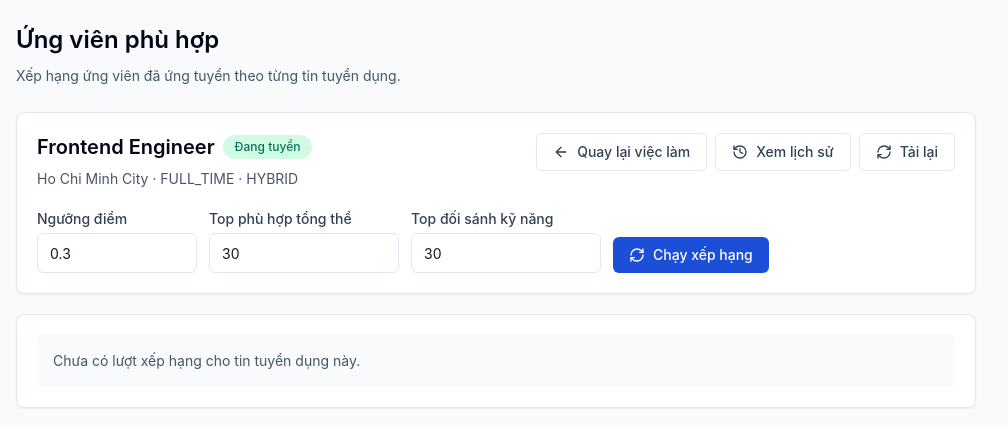
create run and processing behavior › sanitizes failed create errors
Expected: the text "Chưa có lượt xếp hạng cho tin tuyển dụng này." is shown, [37,335,955,387]
Click the button "Chạy xếp hạng" at (691, 255), box [613,237,769,273]
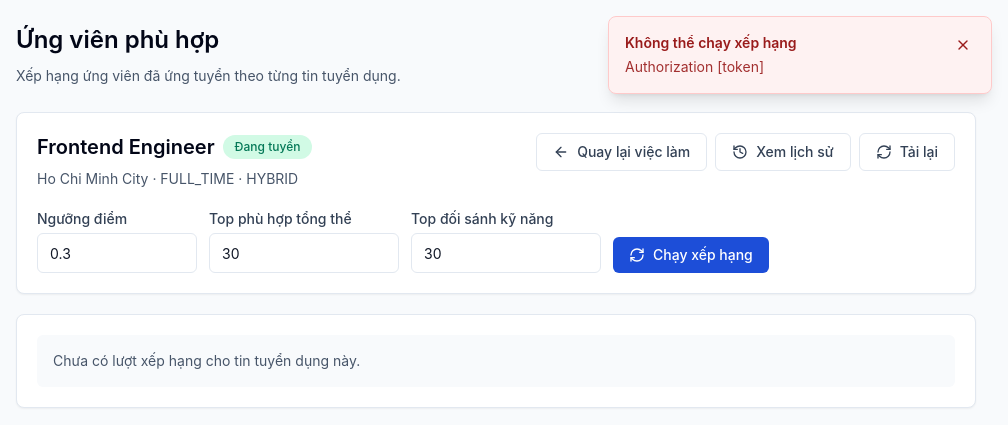
Expected: the text "Authorization [token]" is shown, [625,58,764,75]
